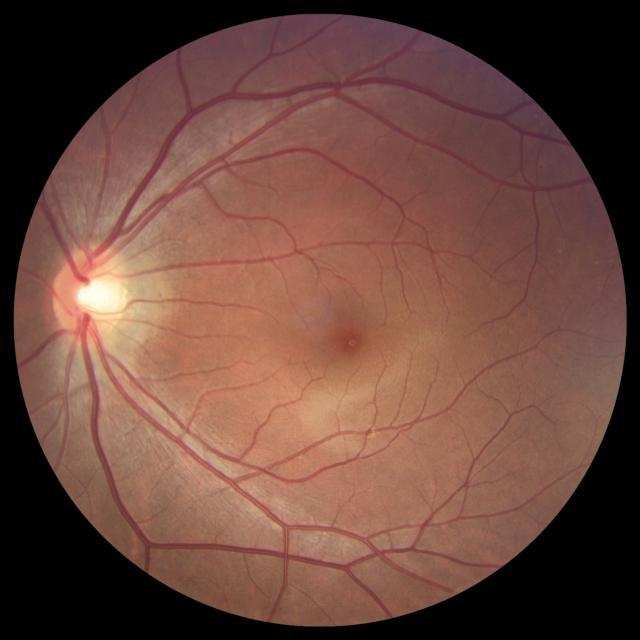OC: (76, 274, 118, 318)
OD: (50, 244, 129, 344)
